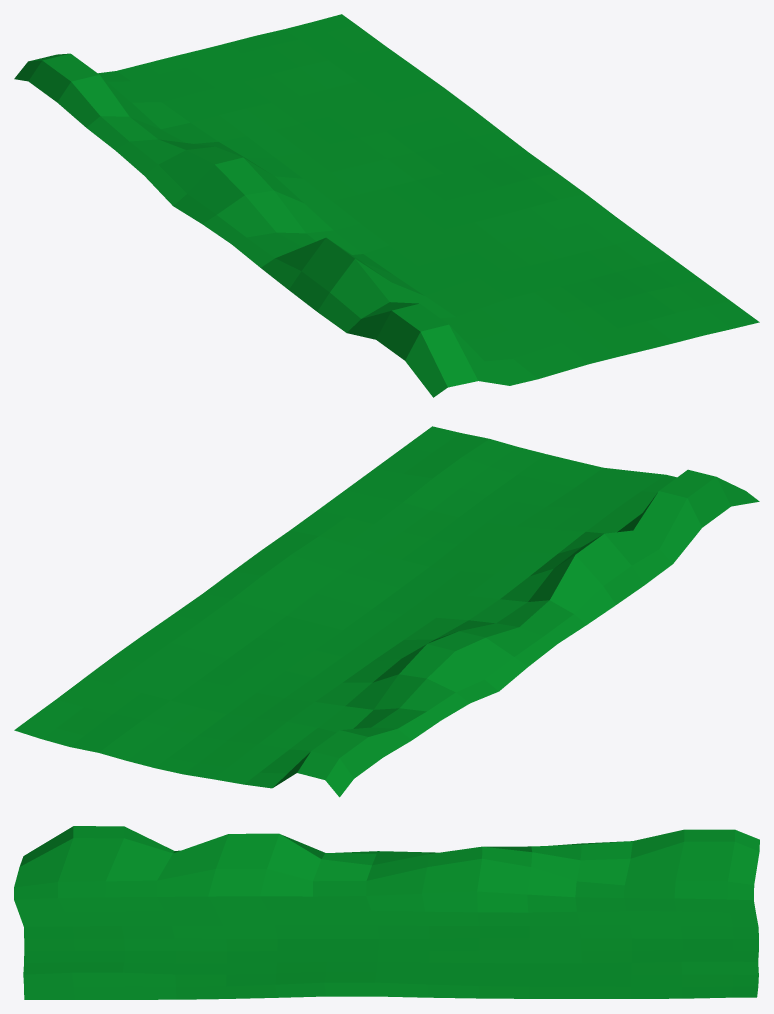
File: Terrain-forestMA2.fbx
The picture shows the model from 3 angles, top to bottom: view 1: azimuth 30°, elevation 25°; view 2: azimuth 150°, elevation 25°; view 3: azimuth 270°, elevation 25°; orthographic projection. The views are drawn at different scales.
Visible parts, largest first — view 1: terrain; view 2: terrain; view 3: terrain.
Boxes of the visible parts, x1,y1,x2,y2 form: terrain: [14, 14, 759, 397]; terrain: [14, 426, 759, 797]; terrain: [14, 826, 759, 999].
Size of the model in its own units: 975 by 138 by 2183.
